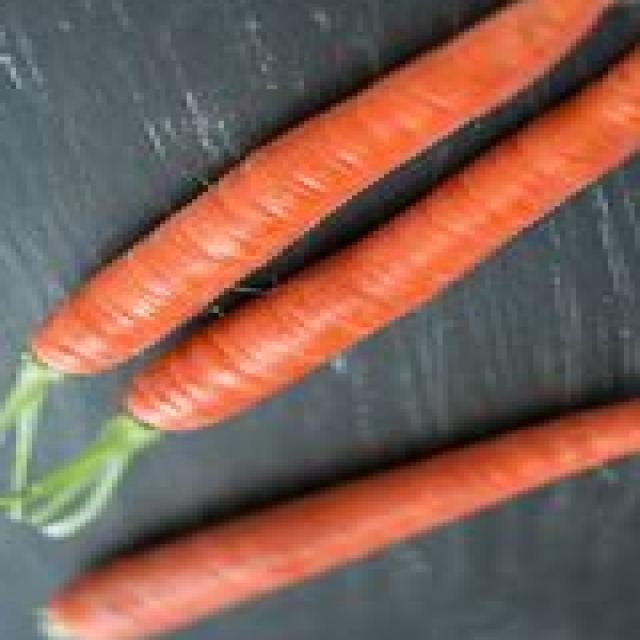carrot: (24, 0, 612, 389), (125, 46, 639, 431), (41, 392, 639, 639)
